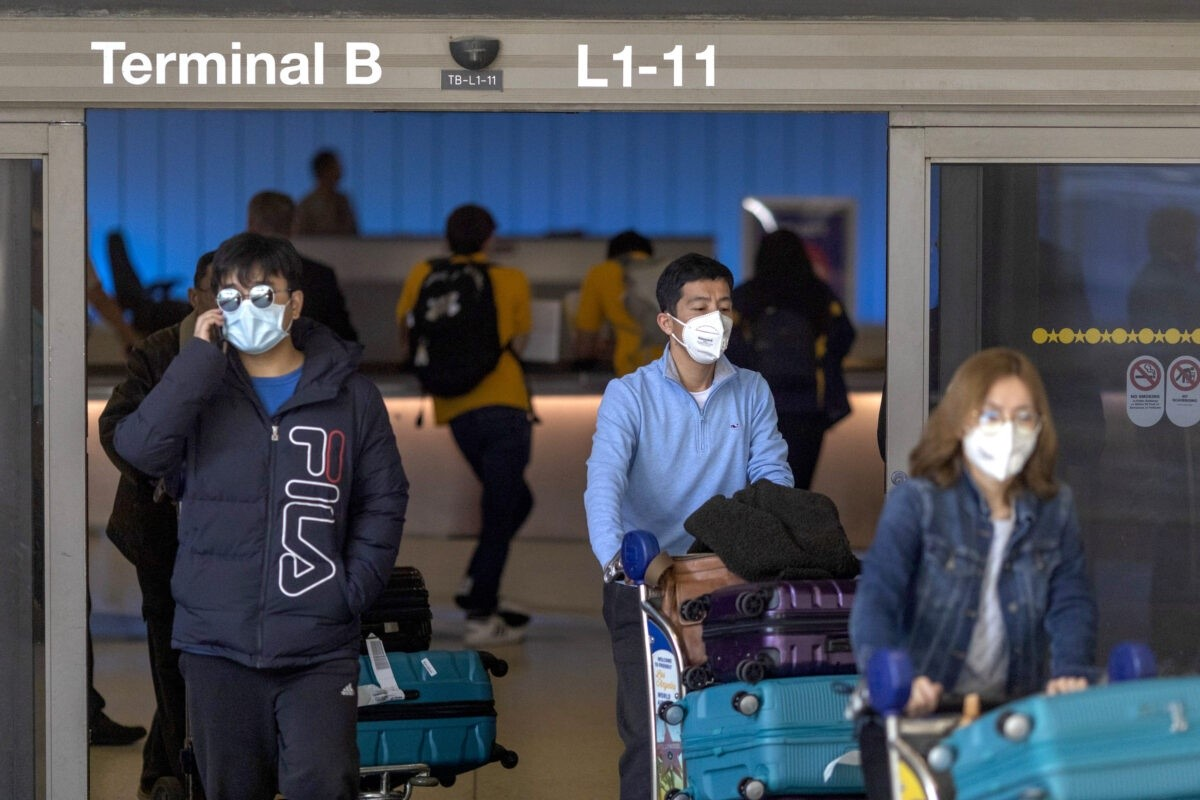face_with_mask: (936, 351, 1053, 491), (207, 233, 310, 358), (648, 252, 744, 366)
